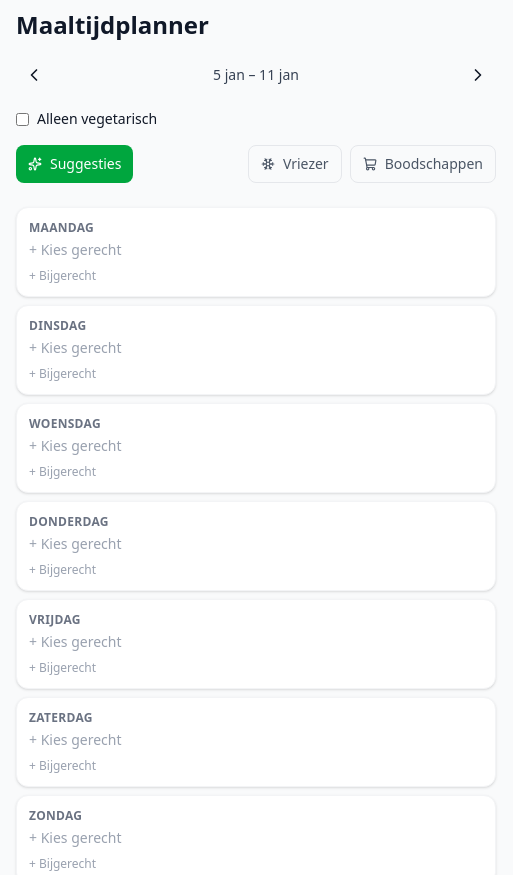
Scenario: Planner suggestion re-roll › "Andere suggesties" re-requests excluding the recipes currently shown
expect the text "Maandag" is shown: met, box left=29, top=220, right=94, bottom=236
Click the button "Suggesties" at (75, 164), box left=16, top=145, right=133, bottom=183
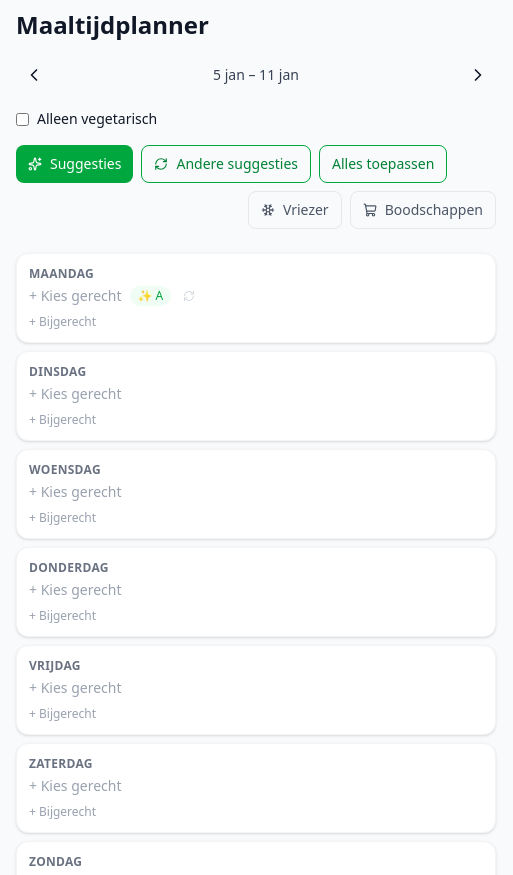
expect the button "✨ A" is shown: met, box left=130, top=286, right=171, bottom=306
Click the button "Andere suggesties" at (226, 164), box left=141, top=145, right=311, bottom=183
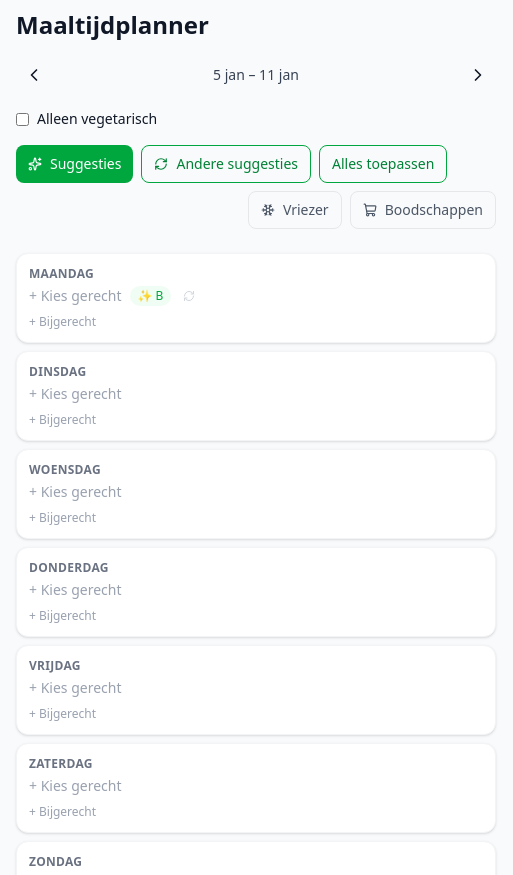
expect the button "✨ B" is shown: met, box left=130, top=286, right=171, bottom=306
